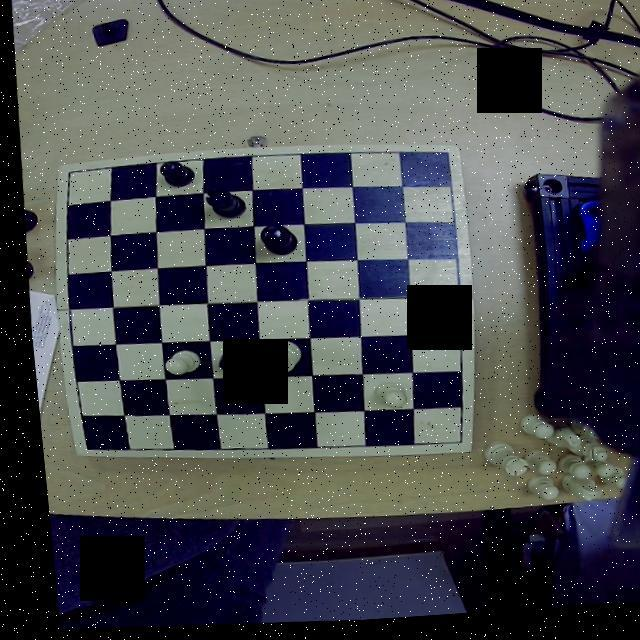chess-table-corners: (427, 150, 455, 173), (439, 432, 464, 456), (66, 438, 96, 456), (54, 166, 78, 186)
